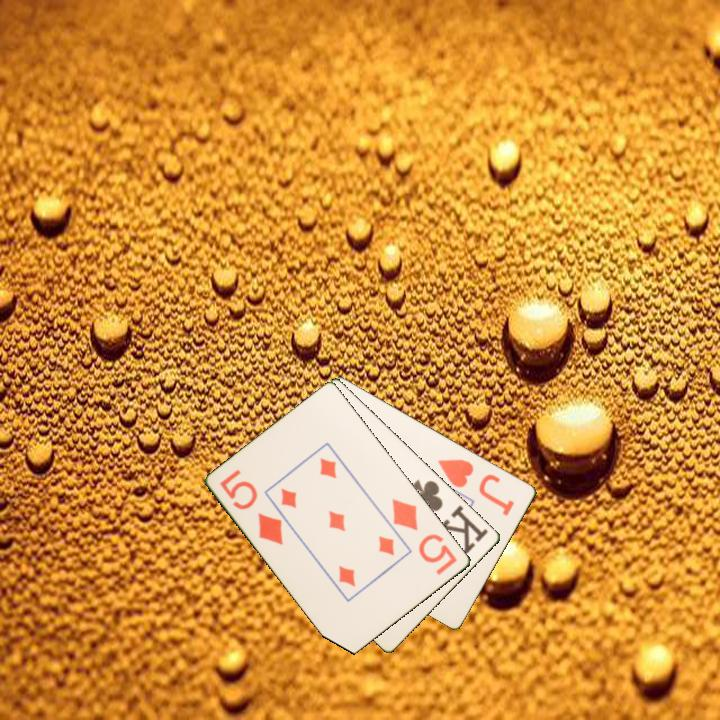5d: (389, 495, 461, 578), (216, 466, 287, 548)
Jh: (434, 455, 518, 519)
Kc: (407, 476, 492, 558)
